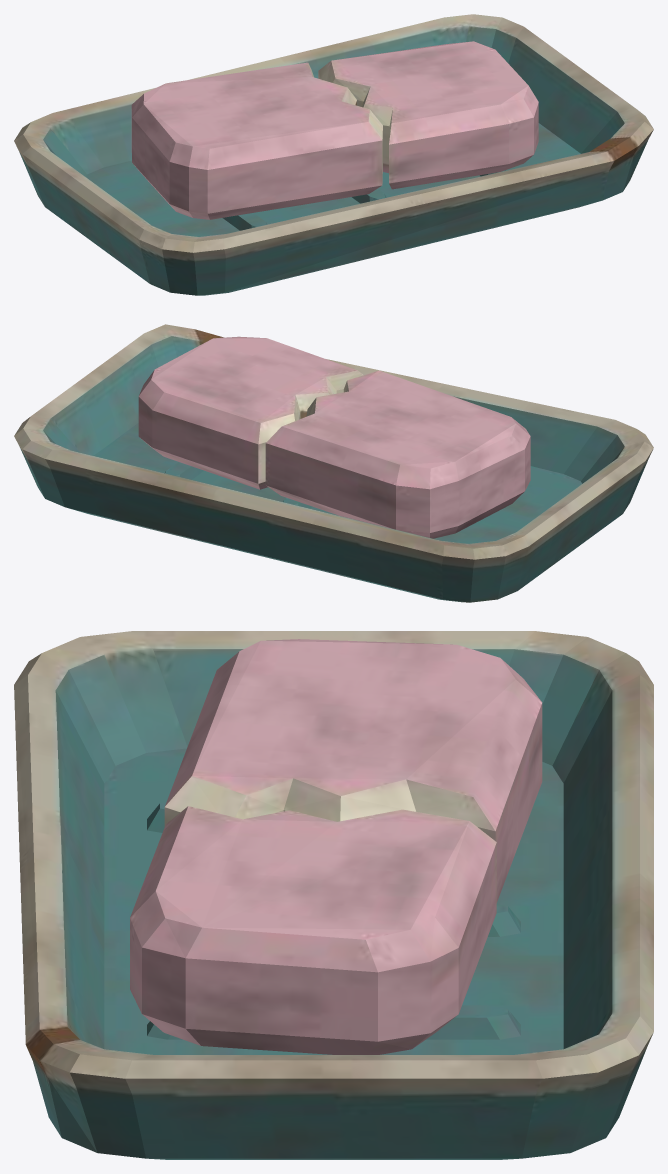
The model's file is B23_soap_dish_and_soap.glb.
3 renders of one model, top to bottom at view 1: azimuth 30°, elevation 25°; view 2: azimuth 150°, elevation 25°; view 3: azimuth 270°, elevation 25°, orthographic. The views are drawn at different scales.
Visible parts, largest first — view 1: Cracked soap in enamel dish; view 2: Cracked soap in enamel dish; view 3: Cracked soap in enamel dish.
Part boxes in pixels (x1,y1,x2,y2): Cracked soap in enamel dish: [14, 14, 653, 295]; Cracked soap in enamel dish: [14, 324, 653, 602]; Cracked soap in enamel dish: [14, 631, 653, 1159].
Size of the model in its own units: 0.15 by 0.0303 by 0.092.
Materials: 6 (6 with a texture image).
